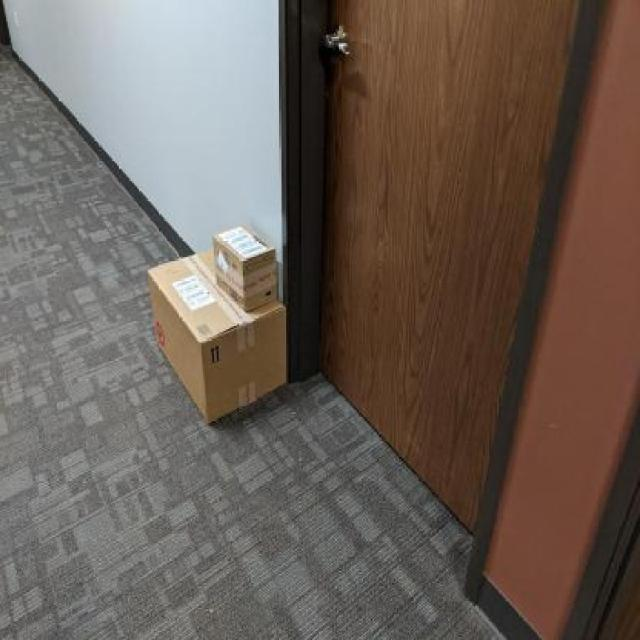cardboxes: (142, 242, 290, 427), (208, 221, 283, 314)
